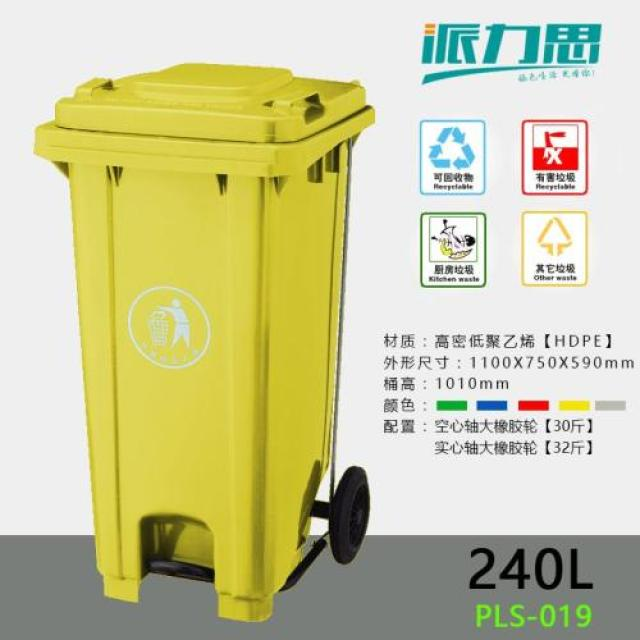garbage_bin: (30, 62, 372, 622)
